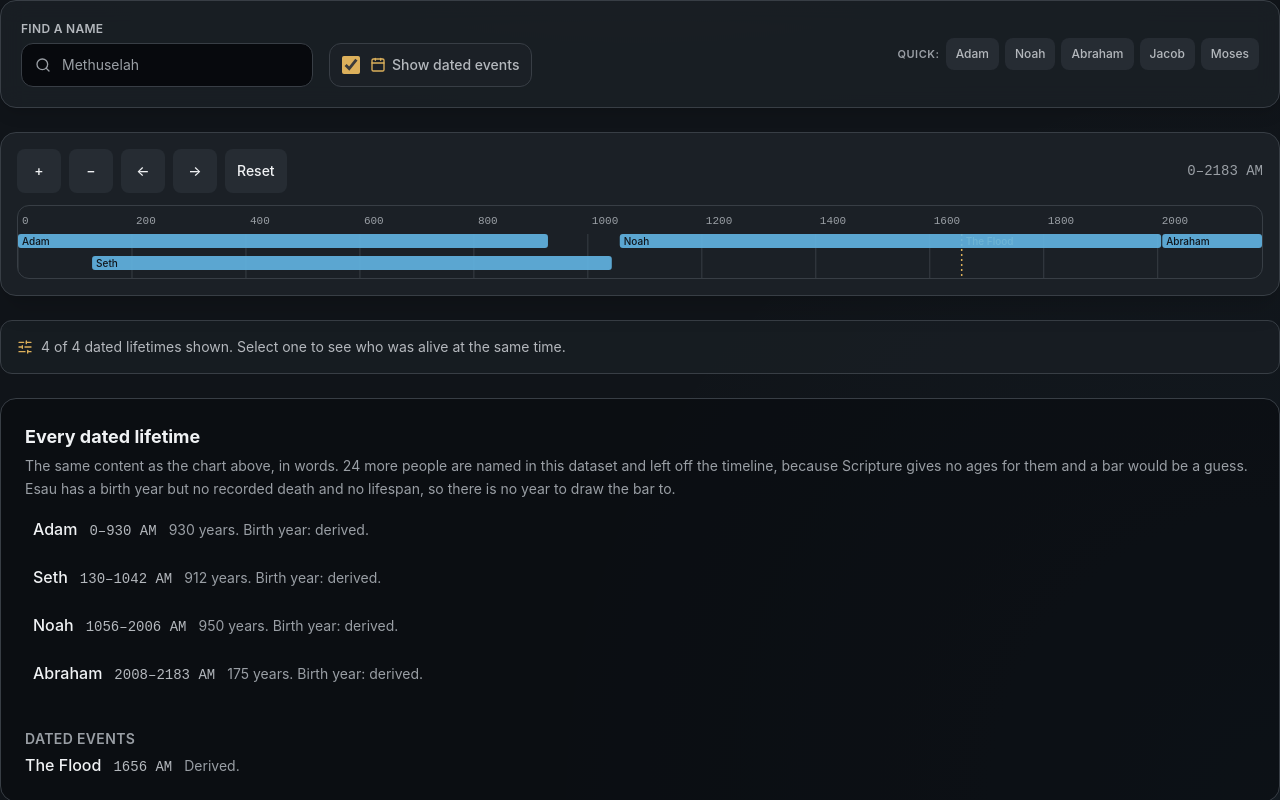
Timeline › says so plainly when a search matches nobody
In the search field labelled "Find a name": (167,65) [21,43,313,87], type "Melchizedek"
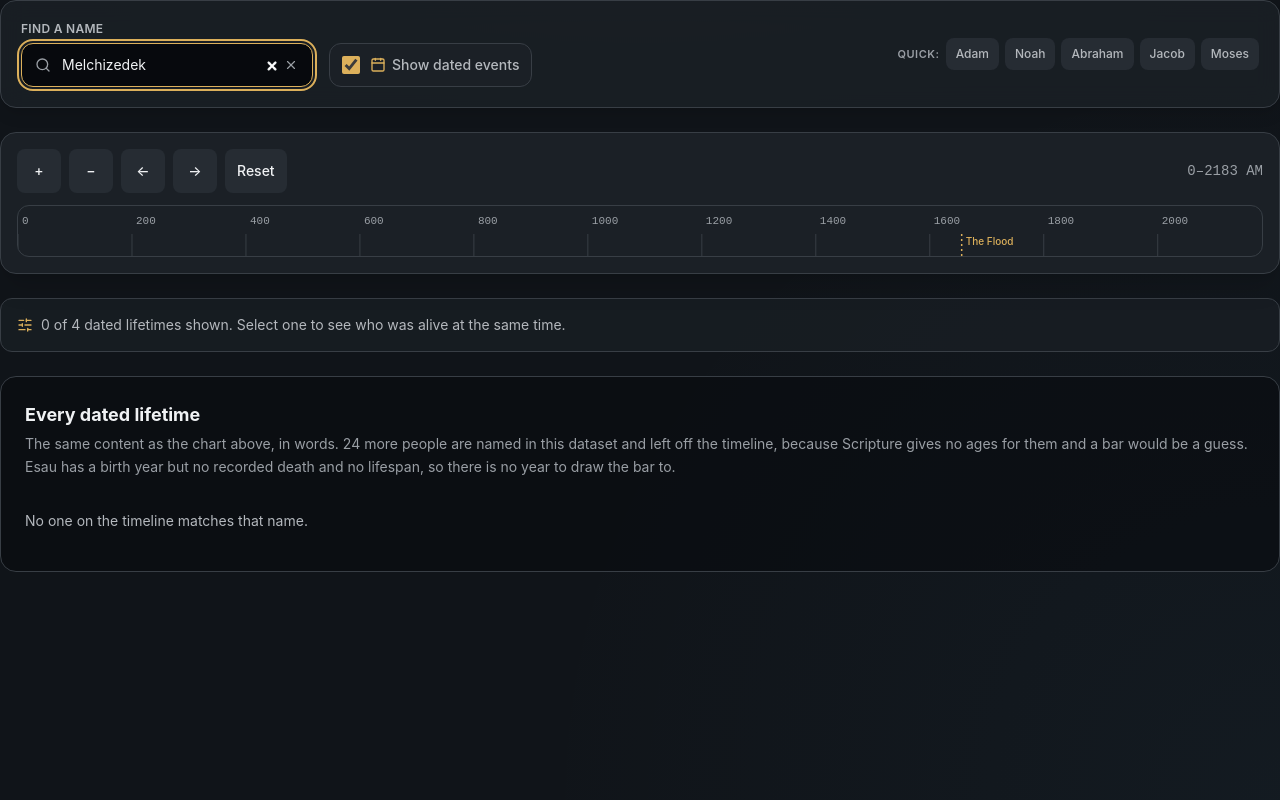
expect the text "No one on the timeline matches that name." is shown: met, box [25,512,308,528]
